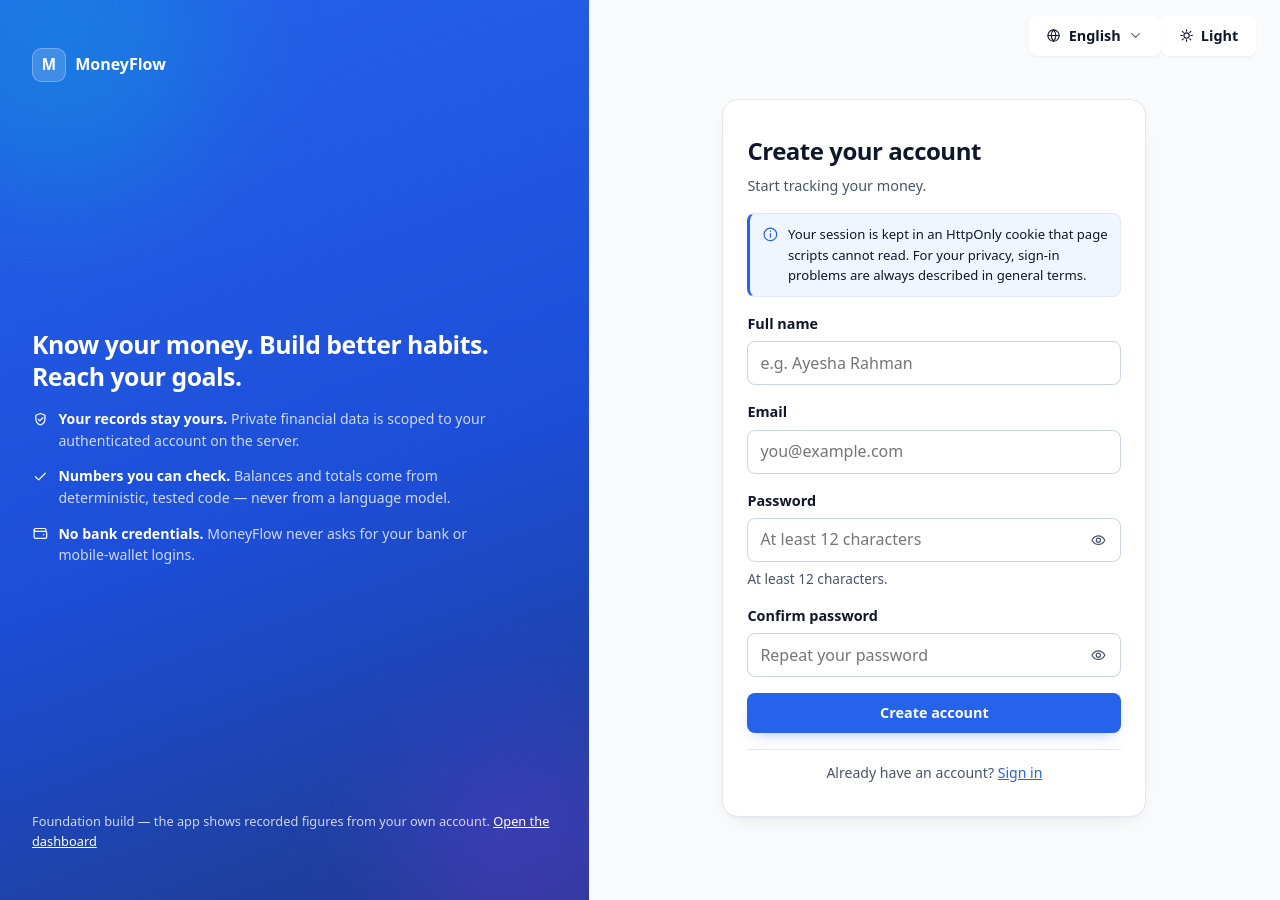
Scenario: sign-up route › flags a short password once the form is touched
Type "too-short" into the password field labelled "Password".
click(934, 540); type("too-short")  # box [747,518,1121,562]
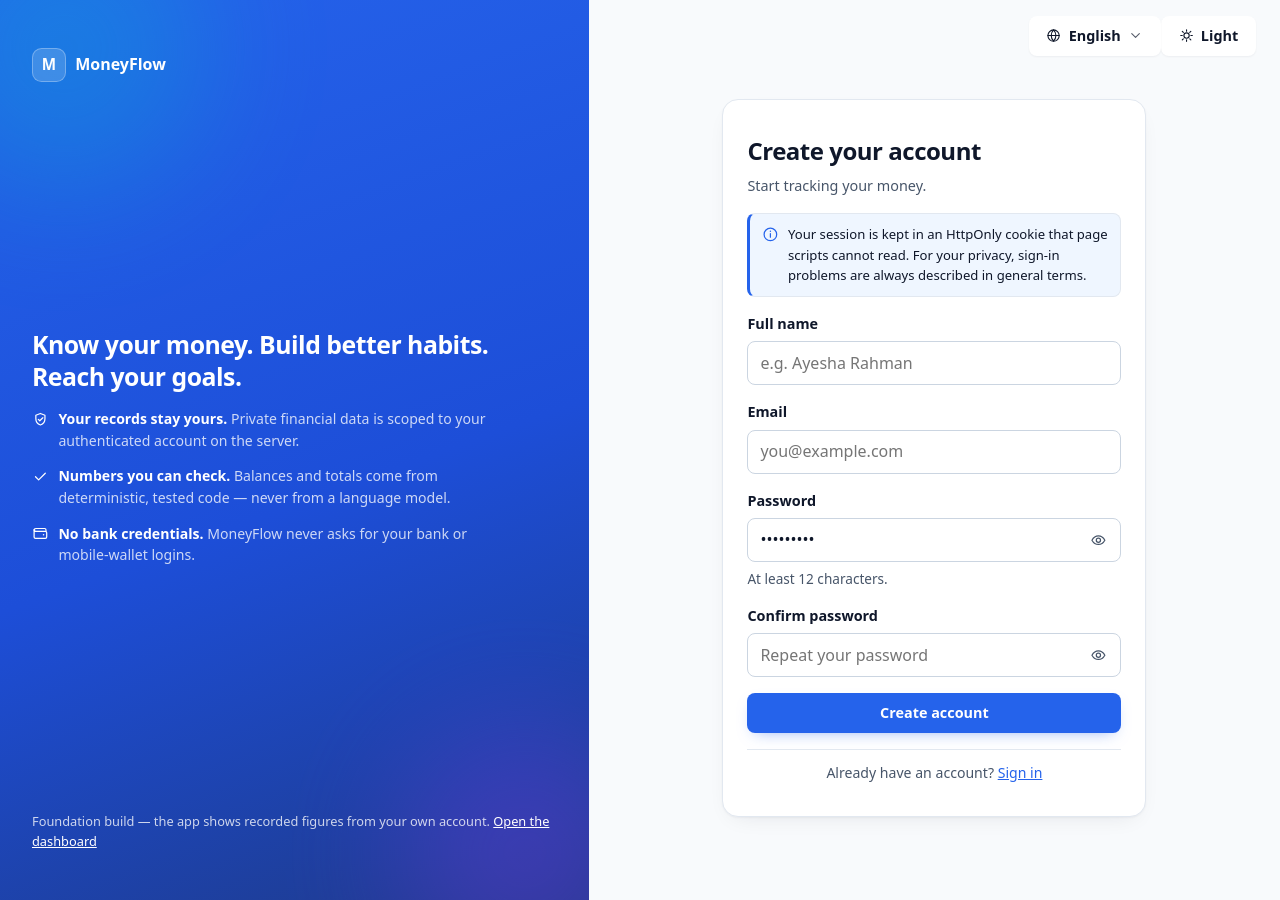
Leave the password field labelled "Password", box [747,518,1121,562]
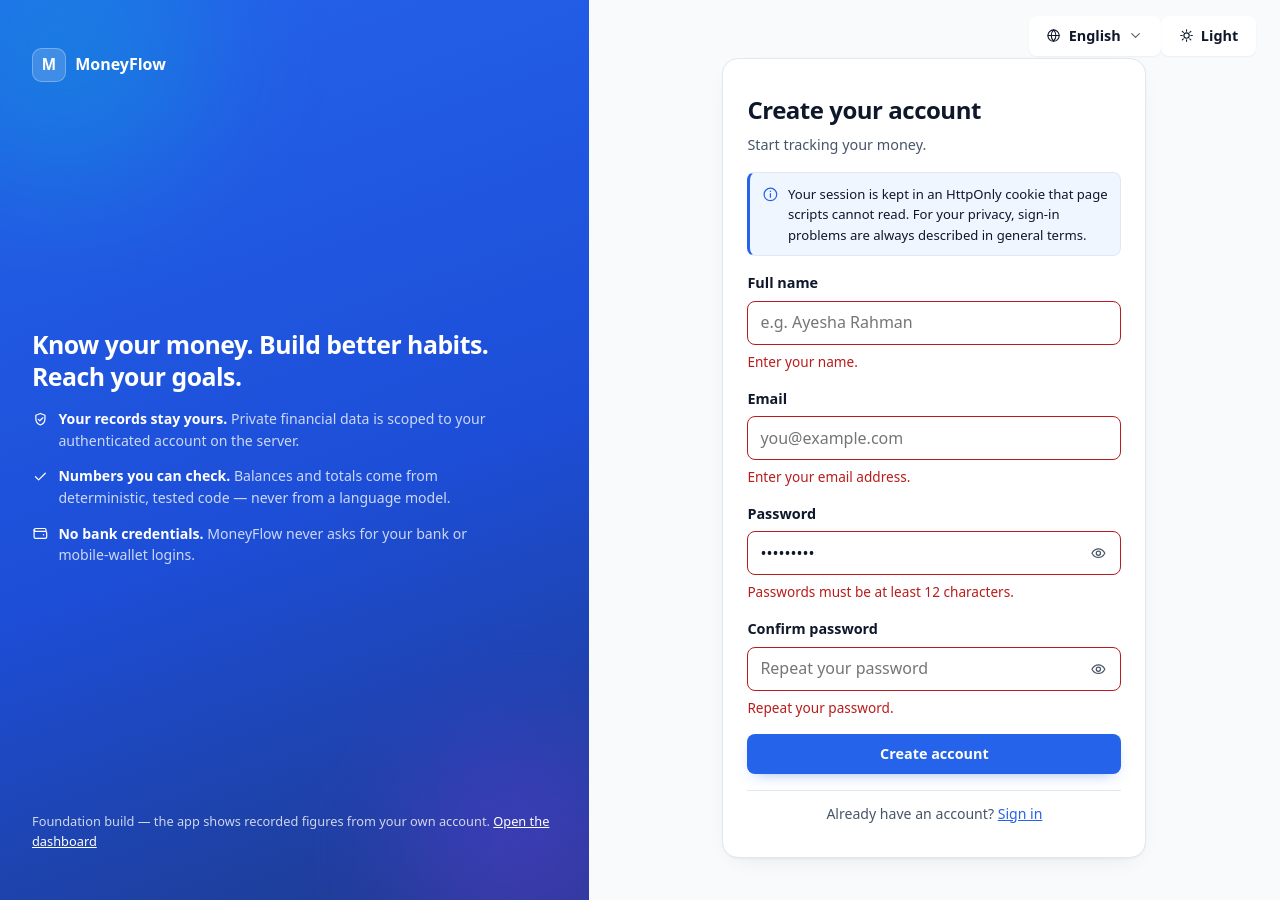
Expected: the text "Passwords must be at least 12 characters." is shown, [747,582,1014,601]
